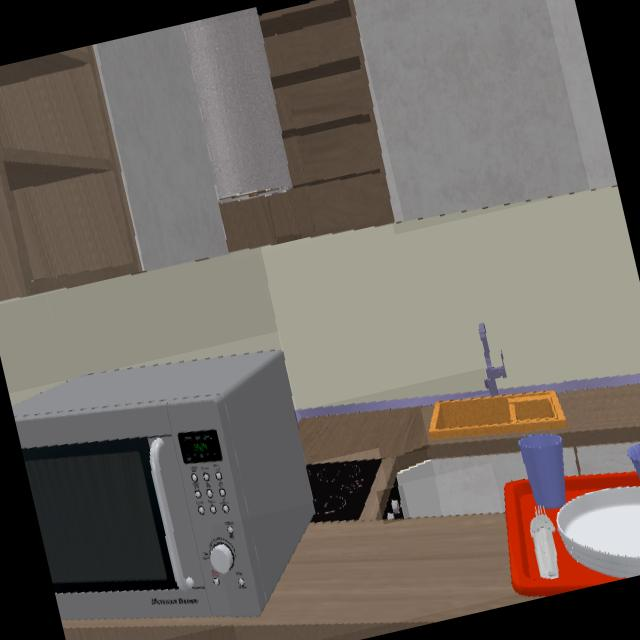cabinet: (87, 6, 293, 272), (351, 0, 589, 223)
countertop: (233, 490, 514, 625), (298, 390, 490, 464), (506, 374, 640, 446)
microwave: (12, 351, 313, 620)
oven: (383, 486, 409, 523)
shelf: (221, 0, 395, 252), (0, 47, 141, 301)
sink: (426, 386, 573, 448)
stove: (307, 457, 382, 524)
